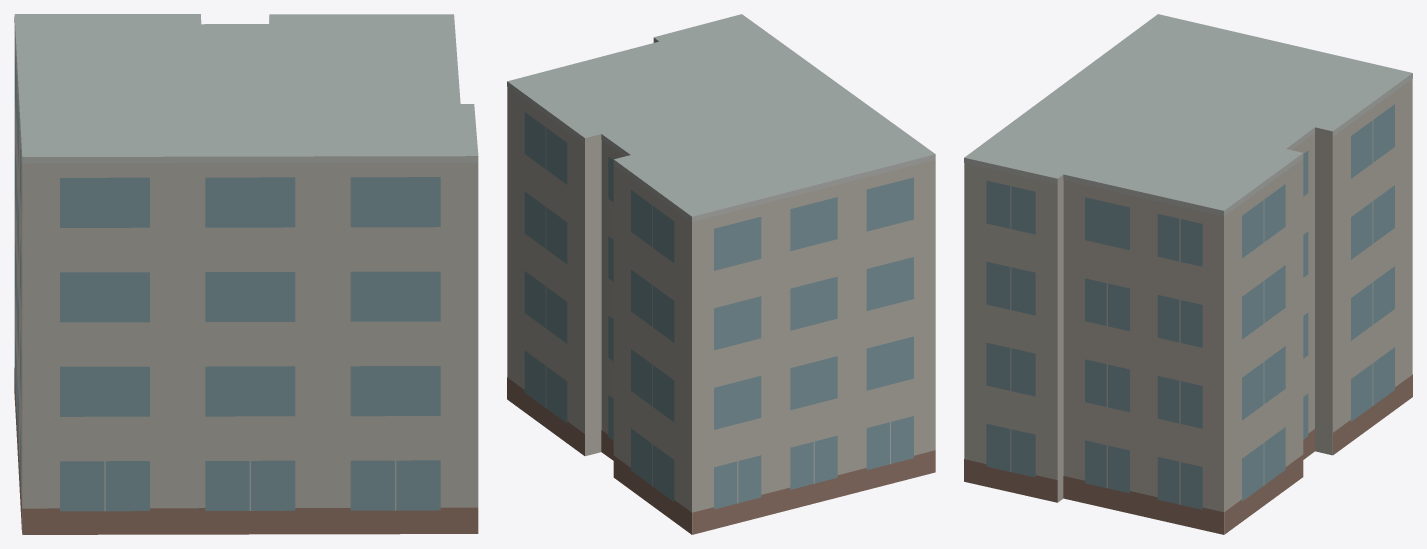
The model's file is survey-upis-32692219.glb.
The picture shows the model from 3 angles, left to right: view 1: azimuth 30°, elevation 25°; view 2: azimuth 150°, elevation 25°; view 3: azimuth 270°, elevation 25°; orthographic projection. The views are drawn at different scales.
Visible parts, largest first — view 1: survey-upis-32692219.tmp; view 2: survey-upis-32692219.tmp; view 3: survey-upis-32692219.tmp.
Part boxes in pixels (x1,y1,x2,y2): survey-upis-32692219.tmp: [14, 14, 478, 534]; survey-upis-32692219.tmp: [507, 14, 935, 534]; survey-upis-32692219.tmp: [964, 14, 1412, 534].
Bounding box in the file's own units: 18.77 × 14.4 × 18.08.
